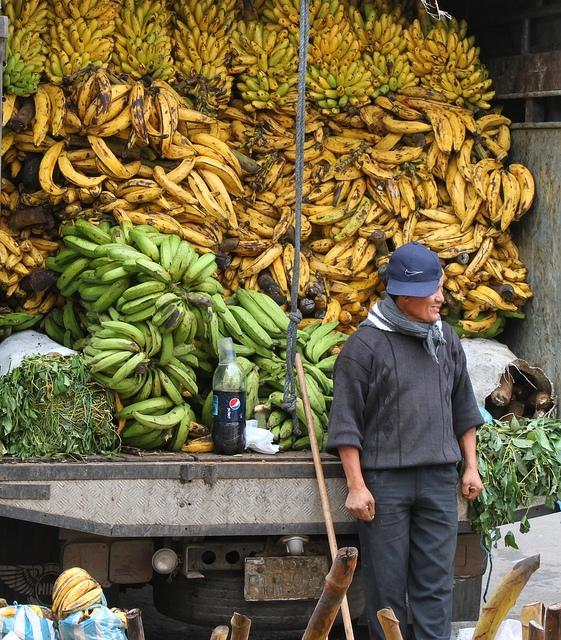banana: (262, 393, 324, 453), (196, 168, 238, 232), (188, 133, 242, 177), (88, 134, 141, 178), (78, 92, 130, 136), (187, 170, 229, 223), (236, 286, 282, 334), (226, 305, 274, 349), (83, 84, 132, 126), (194, 156, 245, 194), (245, 289, 290, 332), (58, 150, 107, 188), (224, 322, 273, 360), (460, 172, 490, 234), (38, 138, 70, 196), (333, 195, 371, 242), (152, 166, 198, 204), (238, 243, 285, 280), (276, 164, 330, 196), (506, 163, 536, 220), (87, 101, 132, 137), (421, 106, 453, 156), (38, 83, 68, 136), (57, 580, 97, 619), (231, 120, 276, 154), (304, 321, 340, 362), (148, 87, 178, 136), (89, 66, 112, 128), (148, 78, 192, 110), (400, 96, 474, 115), (180, 253, 216, 292), (52, 567, 92, 602), (54, 256, 94, 291), (124, 408, 170, 438), (114, 396, 174, 419), (117, 317, 153, 355), (108, 352, 146, 388), (102, 321, 146, 352), (131, 404, 185, 429), (462, 236, 494, 278), (129, 80, 149, 146), (212, 292, 242, 336), (155, 92, 174, 160), (273, 178, 316, 208), (32, 85, 52, 148), (313, 332, 350, 366), (426, 224, 474, 250), (308, 253, 354, 280), (283, 243, 306, 297), (142, 212, 186, 240), (94, 278, 130, 312), (148, 135, 196, 160), (121, 290, 170, 314), (180, 222, 219, 252), (295, 375, 324, 415), (128, 228, 160, 264), (500, 170, 518, 234), (161, 193, 206, 218), (256, 110, 296, 138), (162, 364, 199, 394), (367, 176, 396, 214), (60, 588, 102, 614), (234, 210, 274, 237), (284, 135, 324, 162), (442, 110, 466, 154), (308, 204, 358, 225), (366, 146, 424, 164), (323, 237, 359, 266), (321, 153, 355, 183), (90, 351, 134, 374), (383, 114, 433, 134), (134, 258, 171, 284), (114, 178, 162, 198), (416, 223, 461, 244), (302, 363, 330, 396), (258, 376, 300, 398), (228, 146, 262, 173), (217, 106, 265, 125), (62, 235, 100, 259), (351, 240, 376, 276), (476, 114, 512, 139), (304, 373, 327, 412), (344, 177, 367, 216), (290, 200, 346, 216), (304, 178, 338, 204), (451, 170, 468, 222), (324, 134, 364, 156), (168, 240, 190, 280), (181, 224, 219, 247), (166, 155, 196, 184), (78, 72, 96, 120), (358, 218, 399, 239), (117, 303, 160, 323), (70, 158, 123, 174), (396, 86, 449, 102), (60, 268, 90, 296), (191, 220, 222, 247), (243, 206, 279, 229), (485, 170, 501, 220), (237, 322, 287, 338), (437, 238, 477, 258), (92, 338, 142, 354), (335, 127, 384, 143), (171, 92, 188, 138), (92, 372, 138, 389), (416, 207, 462, 224), (23, 151, 43, 190), (347, 271, 382, 293), (160, 302, 184, 334), (178, 106, 218, 125), (174, 303, 192, 345), (457, 138, 474, 182), (350, 236, 372, 270), (244, 199, 281, 219), (121, 429, 162, 447), (192, 144, 227, 165), (188, 127, 233, 143), (132, 368, 152, 404), (466, 290, 499, 311), (123, 187, 166, 203), (62, 226, 100, 244), (134, 234, 172, 252), (217, 175, 244, 200), (393, 100, 424, 121), (145, 320, 162, 358), (94, 244, 140, 258), (372, 132, 404, 152), (499, 192, 520, 222), (398, 178, 416, 213), (360, 105, 390, 126), (454, 112, 478, 138), (92, 329, 136, 343), (96, 199, 140, 213), (101, 266, 139, 282), (272, 256, 288, 294), (2, 90, 17, 130), (23, 288, 50, 310), (230, 240, 272, 254), (414, 220, 450, 236), (258, 268, 280, 294), (17, 164, 36, 194), (332, 180, 352, 208), (94, 260, 124, 278), (385, 180, 400, 216), (322, 298, 341, 326), (80, 284, 113, 300), (417, 157, 441, 179), (266, 110, 295, 128), (483, 257, 503, 283), (182, 292, 214, 308), (28, 236, 60, 252), (403, 210, 418, 244), (208, 312, 219, 358), (54, 208, 96, 220), (102, 68, 130, 86), (472, 221, 490, 249), (155, 293, 182, 311), (328, 134, 368, 146), (366, 201, 386, 225), (262, 134, 296, 148), (370, 96, 399, 112), (333, 166, 366, 180), (196, 292, 218, 313), (313, 354, 338, 372), (186, 282, 218, 296), (160, 239, 173, 273), (138, 202, 182, 212), (496, 240, 518, 260), (83, 3, 109, 19), (329, 278, 358, 292), (268, 38, 289, 57), (299, 252, 310, 288), (64, 108, 82, 130), (308, 238, 336, 252), (6, 249, 24, 270), (462, 298, 489, 312), (239, 34, 256, 56), (178, 212, 215, 222), (262, 30, 276, 56), (2, 130, 16, 156), (15, 142, 51, 152), (140, 17, 155, 41), (172, 343, 195, 358), (54, 1, 72, 20), (372, 212, 396, 226), (94, 210, 118, 224), (74, 168, 89, 190), (89, 257, 114, 270), (276, 46, 294, 64), (336, 244, 354, 262), (23, 44, 42, 61), (322, 117, 342, 133), (279, 419, 294, 440), (94, 8, 116, 22), (228, 252, 245, 270), (185, 93, 202, 111), (269, 48, 286, 66), (113, 208, 132, 224), (426, 38, 441, 58), (474, 140, 489, 160), (25, 194, 50, 206), (450, 287, 470, 302), (79, 283, 106, 294), (9, 188, 20, 215), (86, 18, 110, 30), (78, 188, 96, 204), (309, 156, 333, 168), (409, 166, 421, 190), (344, 38, 360, 56), (449, 275, 471, 288), (501, 266, 518, 282), (63, 188, 80, 204), (175, 19, 193, 34), (56, 22, 70, 41), (490, 205, 504, 224), (278, 102, 311, 110), (162, 207, 186, 218), (253, 24, 264, 48), (102, 368, 135, 376), (313, 126, 324, 150), (50, 24, 62, 46), (400, 196, 410, 222), (131, 12, 141, 38), (437, 42, 450, 62), (97, 312, 112, 329), (414, 46, 428, 64), (62, 40, 76, 58), (229, 44, 250, 56), (334, 216, 353, 229), (186, 13, 199, 32), (350, 79, 372, 90), (20, 2, 30, 26), (136, 272, 160, 282), (204, 4, 216, 24), (115, 296, 130, 312), (20, 34, 30, 58), (188, 47, 202, 64), (403, 29, 417, 46), (379, 42, 396, 56), (378, 26, 391, 44), (419, 49, 437, 62), (195, 1, 204, 27), (136, 165, 154, 178), (207, 16, 220, 34), (406, 51, 424, 64), (141, 160, 170, 168), (208, 41, 219, 62), (424, 29, 434, 52), (197, 34, 207, 57), (108, 305, 122, 321), (455, 52, 468, 69), (250, 40, 263, 57), (258, 50, 268, 72), (136, 46, 147, 66), (87, 18, 98, 38), (272, 107, 294, 117), (120, 62, 138, 74), (483, 226, 501, 238), (413, 169, 431, 181), (246, 20, 256, 41), (340, 21, 350, 42), (239, 74, 260, 84), (100, 191, 116, 204), (51, 61, 64, 77), (113, 128, 130, 140), (50, 53, 62, 70), (136, 6, 144, 31), (32, 24, 52, 34), (273, 62, 293, 72), (200, 42, 209, 64), (226, 0, 240, 14), (356, 290, 370, 304), (128, 275, 142, 289), (224, 267, 239, 280), (210, 77, 226, 89), (48, 194, 64, 206), (390, 138, 406, 150), (287, 32, 299, 48), (329, 35, 339, 54), (430, 55, 447, 66), (1, 607, 18, 618), (456, 41, 464, 64), (90, 50, 104, 63), (349, 72, 363, 85), (75, 38, 85, 56), (396, 70, 406, 88), (332, 322, 350, 332), (81, 28, 91, 46), (308, 90, 326, 100), (357, 70, 372, 82), (0, 266, 9, 286), (310, 82, 326, 93), (343, 32, 354, 48), (397, 38, 408, 54), (439, 66, 450, 82), (385, 60, 394, 79), (329, 226, 342, 239), (89, 29, 102, 42), (342, 74, 354, 88), (378, 54, 386, 75), (373, 20, 381, 41), (314, 18, 328, 30), (20, 226, 32, 240), (100, 24, 114, 36), (476, 82, 490, 94), (256, 90, 270, 102), (69, 22, 77, 43), (346, 62, 358, 76), (226, 226, 240, 238), (151, 22, 162, 37), (328, 1, 339, 16), (273, 346, 284, 361), (278, 18, 296, 27), (413, 28, 422, 46), (448, 50, 458, 66), (200, 64, 210, 80), (388, 76, 398, 92), (469, 72, 481, 85), (12, 62, 25, 74), (152, 160, 174, 167), (226, 20, 237, 34), (175, 3, 184, 20), (192, 26, 200, 45), (467, 94, 482, 104), (111, 51, 121, 66), (200, 14, 208, 32), (78, 22, 87, 38), (329, 64, 338, 80), (20, 240, 32, 252), (260, 76, 269, 92), (207, 65, 216, 81), (278, 151, 290, 163), (154, 35, 167, 46), (24, 21, 37, 32), (326, 74, 336, 88), (392, 24, 402, 38), (336, 30, 343, 50), (446, 59, 456, 73), (366, 30, 376, 44), (215, 218, 229, 228), (42, 32, 52, 46), (370, 86, 381, 98), (289, 13, 300, 25), (364, 20, 374, 33), (229, 38, 242, 48), (390, 36, 400, 49), (339, 93, 348, 107), (14, 78, 28, 87), (432, 65, 446, 74), (60, 84, 74, 93), (258, 70, 268, 82), (447, 72, 457, 84), (99, 36, 111, 46), (38, 46, 50, 56), (460, 78, 470, 90), (490, 248, 500, 260), (75, 17, 84, 30), (337, 18, 346, 31), (63, 62, 72, 75), (326, 99, 339, 108), (276, 75, 290, 83), (380, 84, 390, 95), (454, 96, 464, 107), (48, 228, 59, 238), (206, 94, 215, 106), (484, 129, 499, 136), (336, 86, 345, 97), (261, 16, 275, 23), (201, 30, 208, 44), (354, 95, 368, 102), (322, 32, 330, 44), (309, 234, 325, 240), (242, 92, 252, 101), (270, 92, 280, 101), (234, 14, 244, 23), (37, 18, 48, 26), (339, 58, 350, 66), (276, 98, 287, 106), (228, 135, 240, 142), (15, 126, 27, 133), (244, 176, 258, 182), (310, 108, 320, 116), (54, 17, 62, 27), (272, 338, 282, 346), (201, 0, 207, 13), (476, 282, 489, 288), (122, 158, 135, 164), (280, 303, 288, 312), (396, 212, 403, 222), (343, 103, 351, 111), (340, 126, 356, 130), (218, 272, 224, 282), (17, 204, 27, 210), (298, 294, 308, 300), (210, 192, 220, 198), (351, 32, 358, 40), (258, 18, 266, 25), (48, 250, 57, 256), (364, 142, 376, 146), (22, 26, 26, 36), (404, 60, 410, 66), (20, 94, 31, 97), (162, 20, 166, 28), (508, 266, 514, 270), (304, 136, 310, 140)
